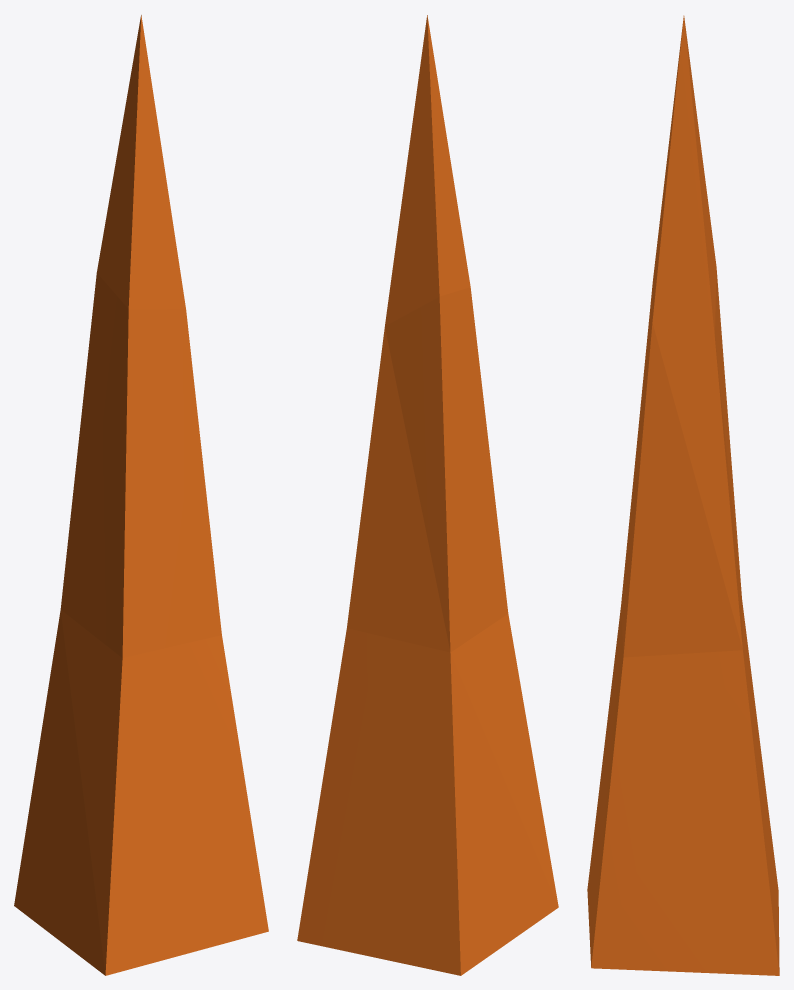
File: tree-pyramid_orange.glb
The picture shows the model from 3 angles, left to right: view 1: azimuth 30°, elevation 25°; view 2: azimuth 150°, elevation 25°; view 3: azimuth 270°, elevation 25°; orthographic projection.
Visible parts, largest first — view 1: tree-pyramid_orange; view 2: tree-pyramid_orange; view 3: tree-pyramid_orange.
Boxes of the visible parts, x1,y1,x2,y2 form: tree-pyramid_orange: [14, 15, 268, 975]; tree-pyramid_orange: [297, 15, 558, 975]; tree-pyramid_orange: [587, 15, 779, 975].
Bounding box in the file's own units: 1.42 × 7.43 × 1.41.
1 material, 1 textured.
